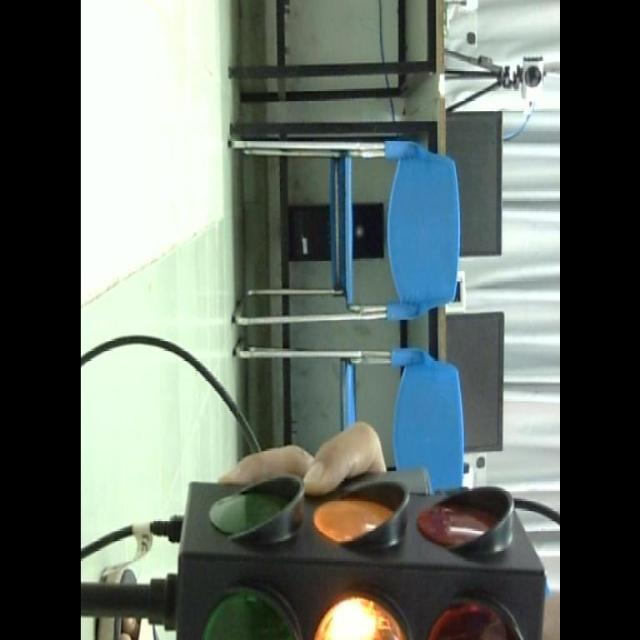yellow_light: (174, 470, 543, 638)
